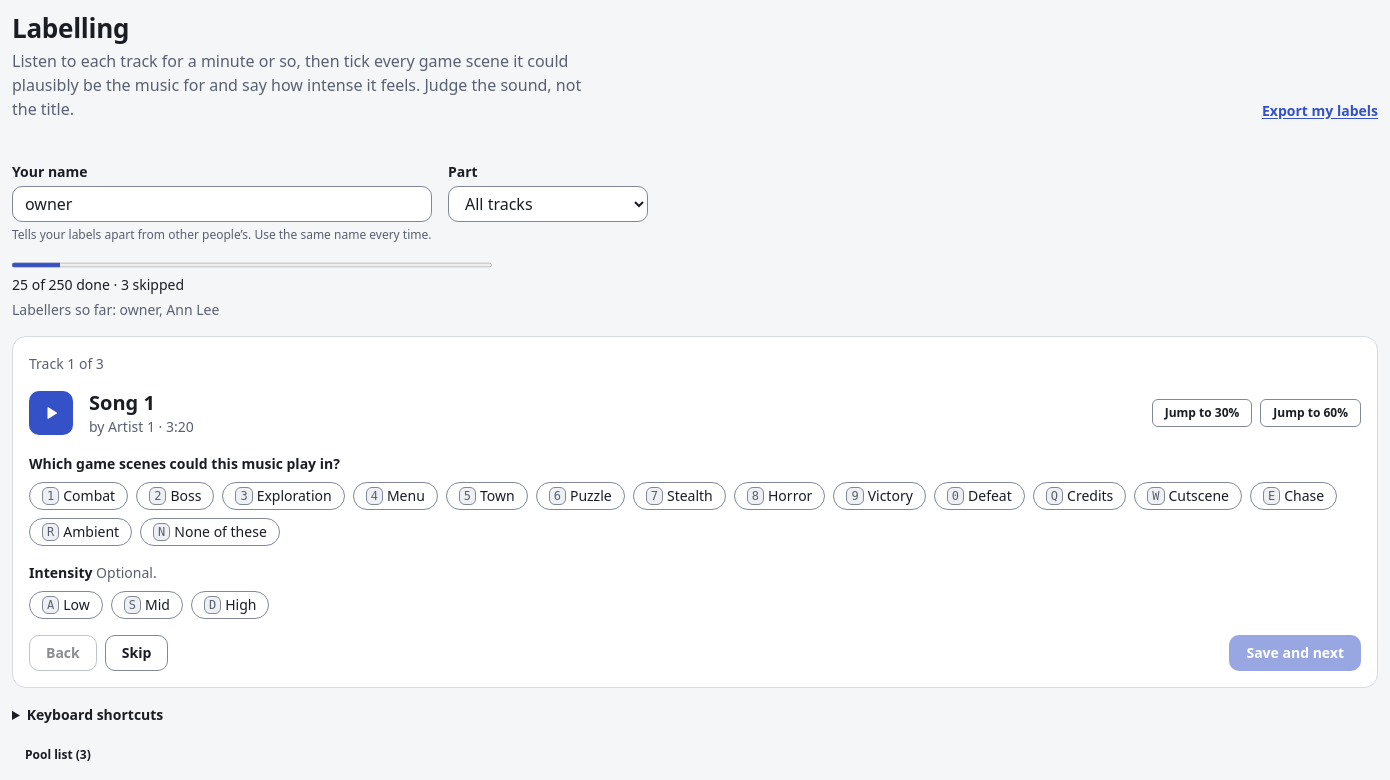
it: Labelling page: name and part › works on the chosen part and counts it in the progress
The width and height of the screenshot is (1390, 780).
Check: the text "25 of 250 done · 3 skipped" is shown, box [12,274,184,294]
Check: the text "Labellers so far: owner, Ann Lee" is shown, box [12,300,219,318]
Select "Part B" in the dropdown labelled "Part" at (548, 204), box [448,186,648,222]
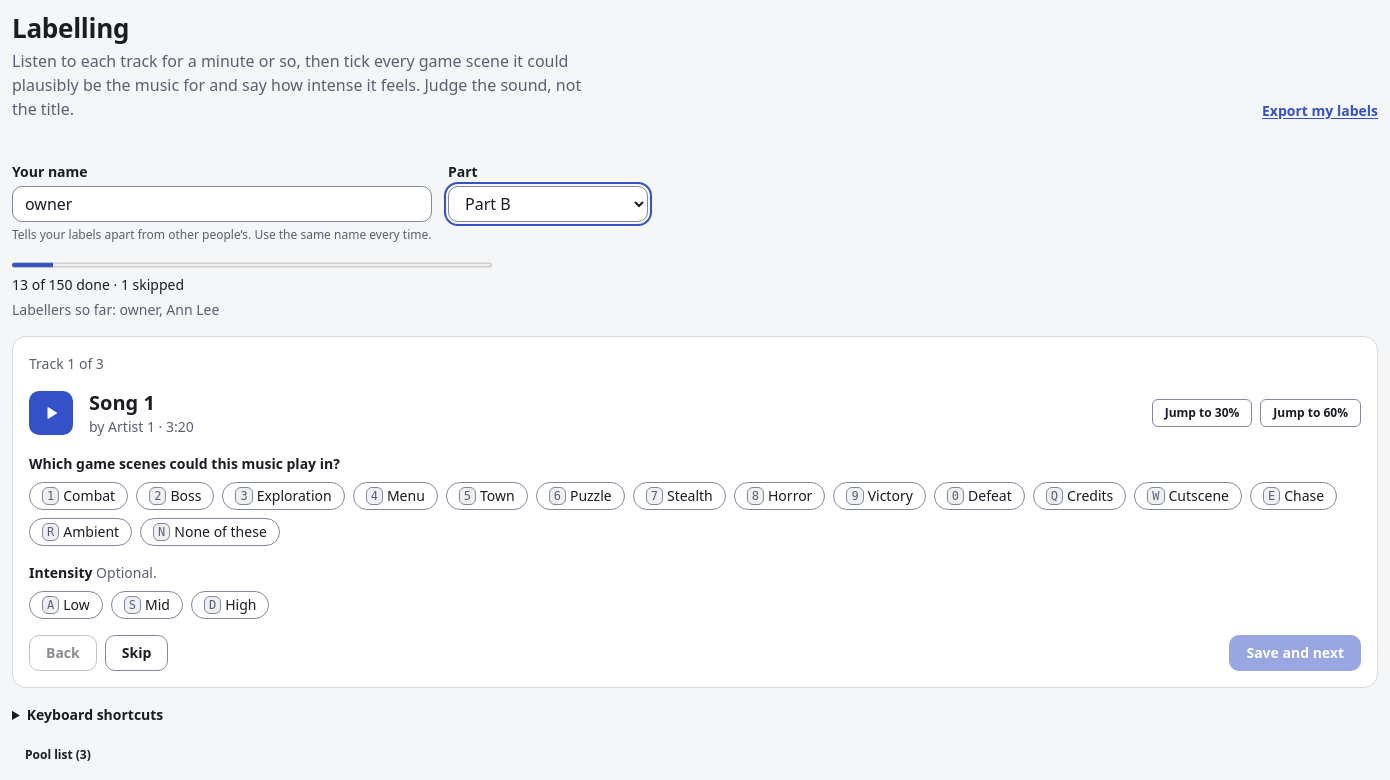
Check: the text "13 of 150 done · 1 skipped" is shown, box [12,274,184,294]
